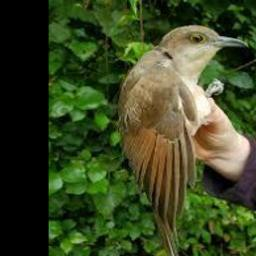Cuckoo: (117, 25, 248, 256)
